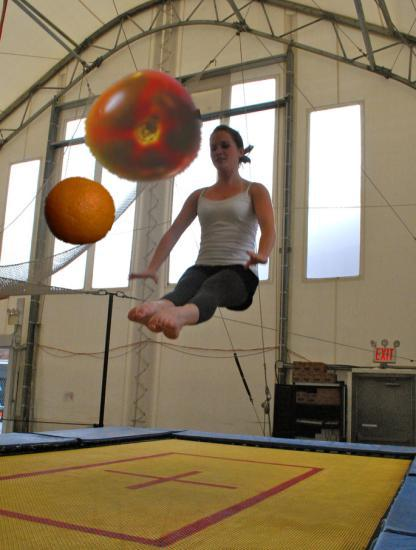Orange: (43, 176, 115, 248)
Tomato: (83, 68, 202, 187)
